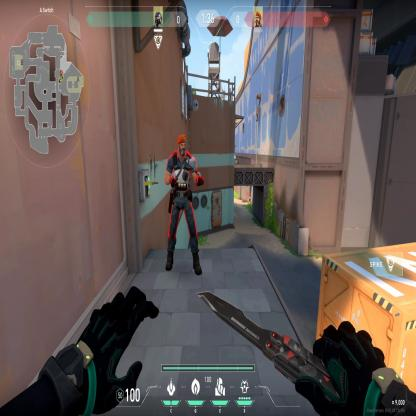enemy: (161, 129, 206, 278)
